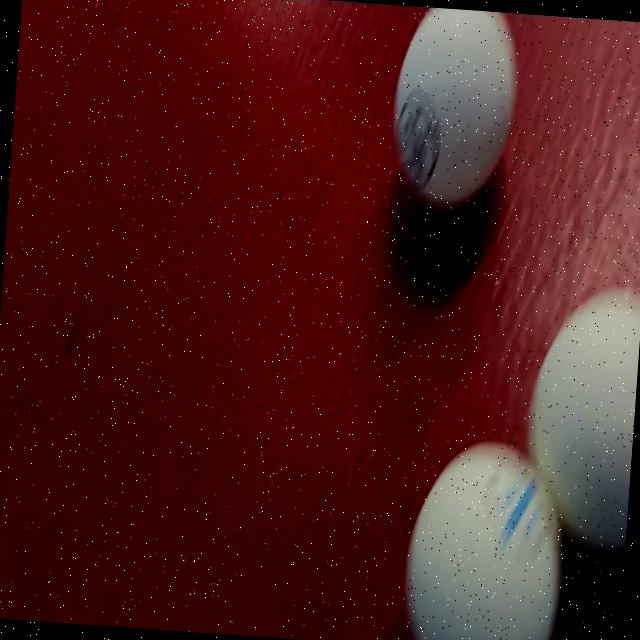ping-pong-ball: (384, 5, 522, 221)
